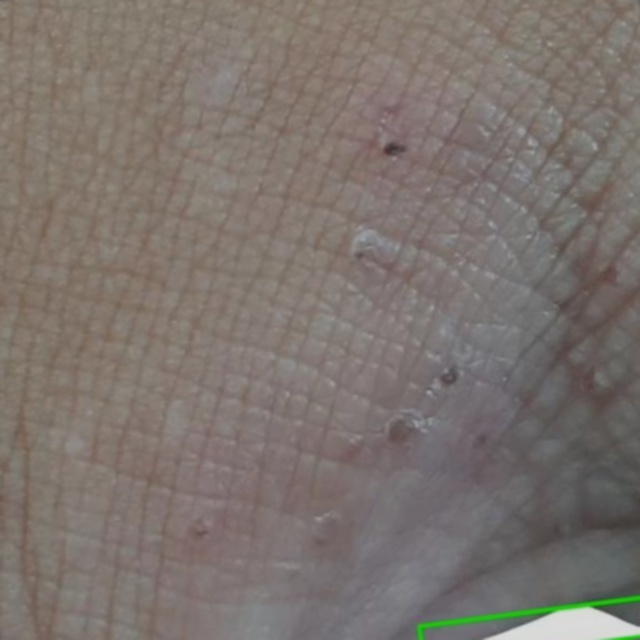Scabies: (417, 597, 639, 639)
